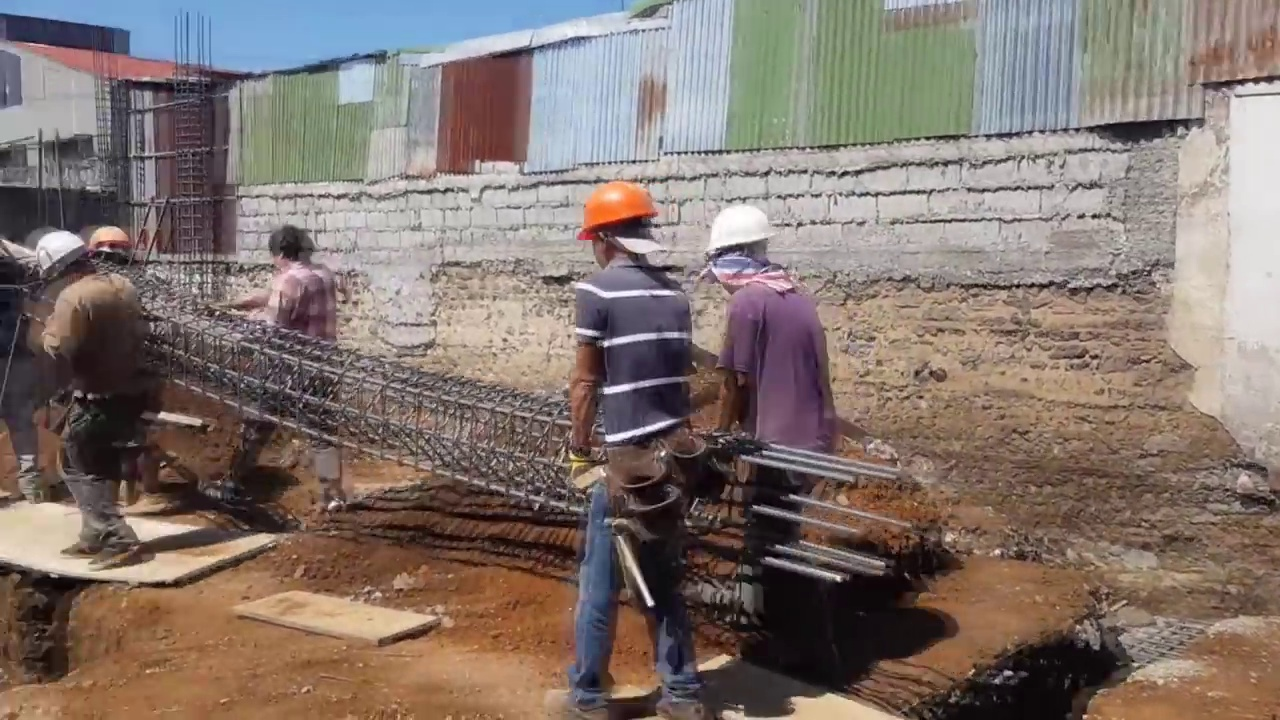helmet: (575, 181, 658, 243), (703, 202, 779, 260), (35, 232, 86, 276), (87, 226, 133, 256)
helmet-off: (260, 225, 314, 280)
helmet-on: (575, 181, 661, 274), (702, 203, 778, 298), (86, 225, 135, 278)
person: (561, 181, 714, 703), (701, 205, 842, 685), (40, 225, 146, 559), (230, 231, 331, 499)
